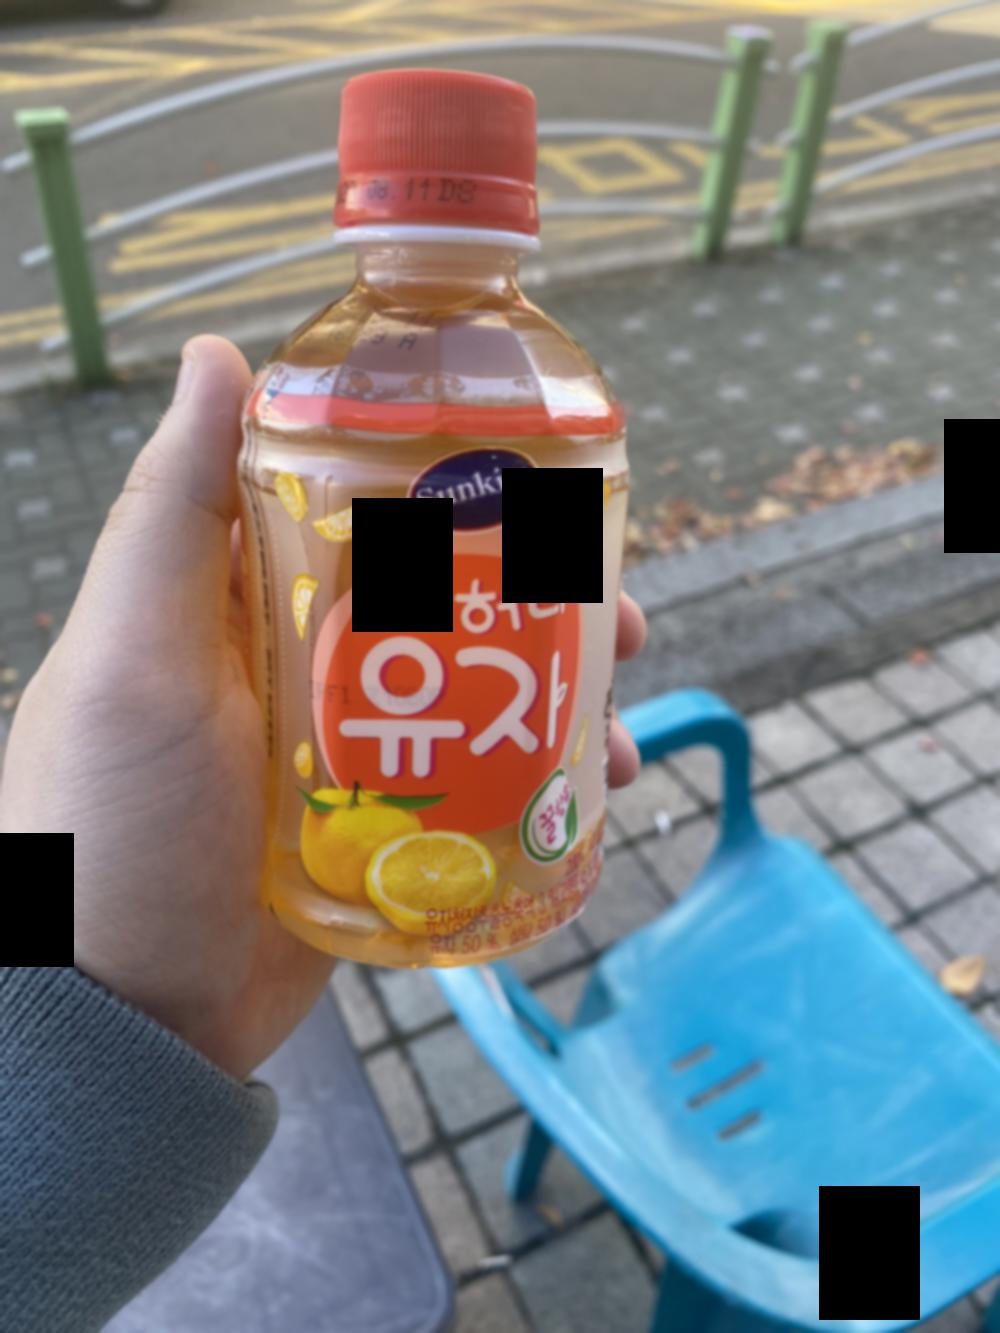honeyyuja: (221, 55, 637, 975)
